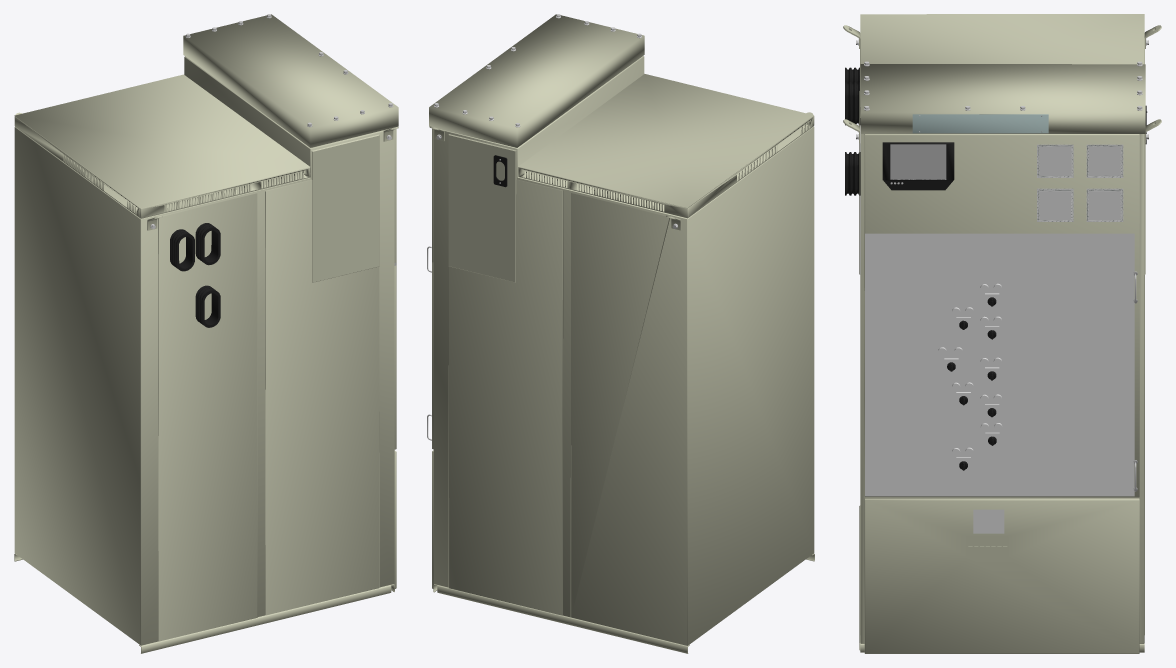
Rendered from Drive_Tr2.fbx.
3 renders of one model, left to right at view 1: azimuth 30°, elevation 25°; view 2: azimuth 150°, elevation 25°; view 3: azimuth 270°, elevation 25°, orthographic. The views are drawn at different scales.
Parts seen in each view (by area): view 1: Шкаф, Накладки шин; view 2: Шкаф; view 3: Шкаф, Схема, Подпись шкафа, Экран, Обертка экрана, Накладки шин, Экран А, Экран V, Экран var, Экран W, Предупреждающий знак.
Boxes of the visible parts, x1,y1,x2,y2 form: Шкаф: [14, 14, 398, 653]; Накладки шин: [170, 223, 220, 327]; Шкаф: [429, 14, 814, 653]; Шкаф: [843, 14, 1161, 653]; Схема: [865, 233, 1134, 496]; Подпись шкафа: [912, 114, 1048, 133]; Экран: [890, 144, 946, 179]; Обертка экрана: [882, 142, 954, 190]; Накладки шин: [845, 67, 860, 195]; Экран А: [1039, 147, 1071, 175]; Экран V: [1089, 147, 1120, 175]; Экран var: [1089, 191, 1120, 219]; Экран W: [1039, 191, 1070, 219]; Предупреждающий знак: [973, 509, 1004, 533].
Size of the model in its own units: 143 by 251 by 133.
